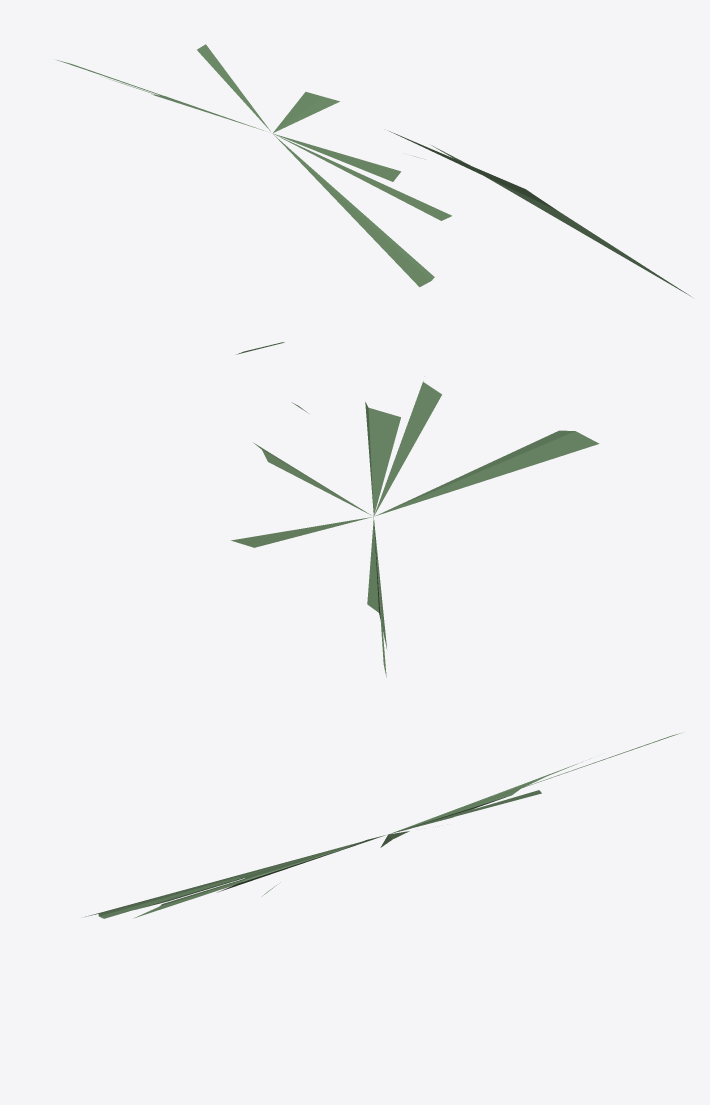
The model's file is c_1670_17819_forest.glb.
3 renders of one model, top to bottom at view 1: azimuth 30°, elevation 25°; view 2: azimuth 150°, elevation 25°; view 3: azimuth 270°, elevation 25°, orthographic. The views are drawn at different scales.
Parts seen in each view (by area): view 1: geometry_0; view 2: geometry_0; view 3: geometry_0.
Part boxes in pixels (left/top/right/bottom): geometry_0: left=57, top=44, right=692, bottom=297; geometry_0: left=231, top=342, right=599, bottom=677; geometry_0: left=84, top=733, right=680, bottom=918.
Bounding box in the file's own units: 427 × 166 × 603.
